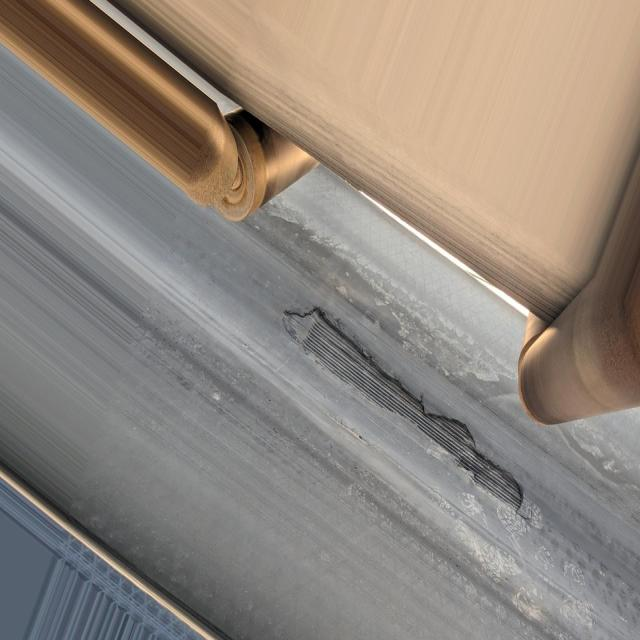Roller: (0, 0, 322, 217), (519, 140, 640, 431)
Tear: (272, 283, 542, 541)
